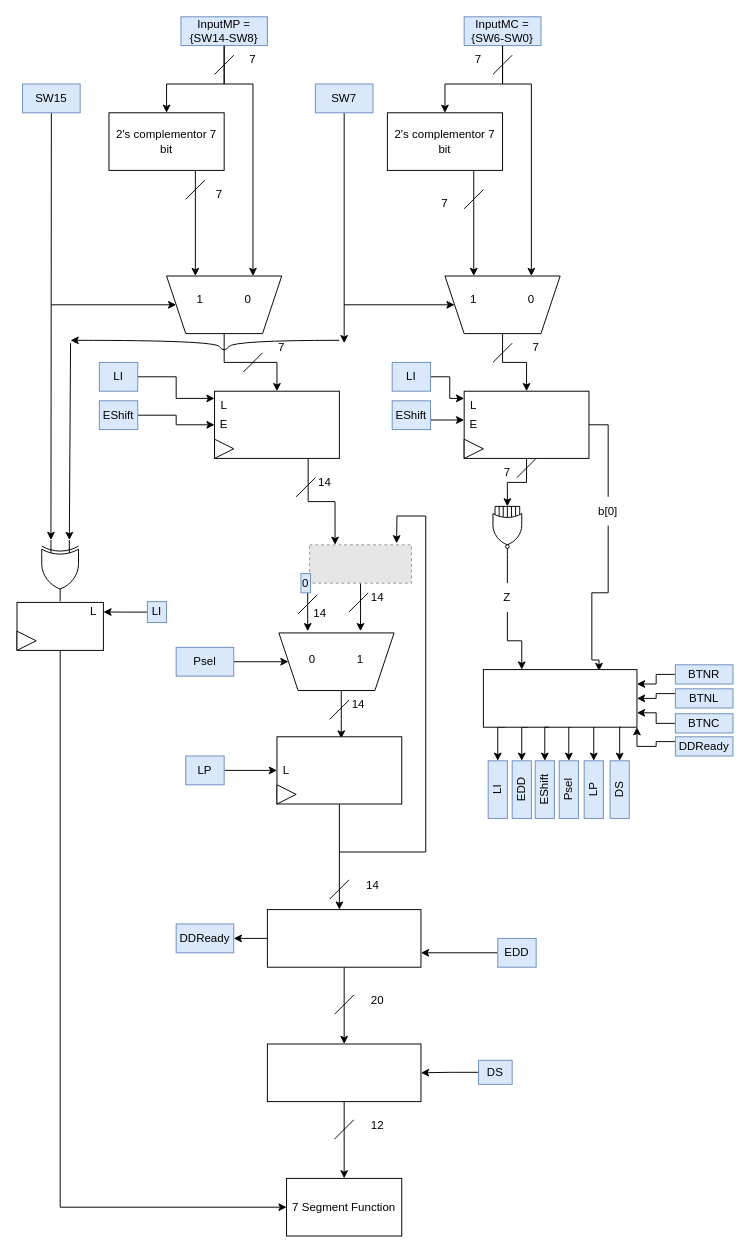
Image size: 750x1253. Some labels were removed from this diagram. Grey dashed boxes stand in for pictures. The shapes that lost their labels are listed below. From the top down, each one's box as (x1, y1, x2, y2) in pixels, then its label:
(214, 390, 339, 458): SHL Reg 14 bit
(463, 390, 589, 458): SHR Reg 7 bit
(16, 601, 103, 650): Neg Reg
(482, 669, 637, 727): Control Unit
(276, 736, 402, 804): Register P
(266, 909, 421, 967): Double dabble
(266, 1043, 421, 1102): Display
